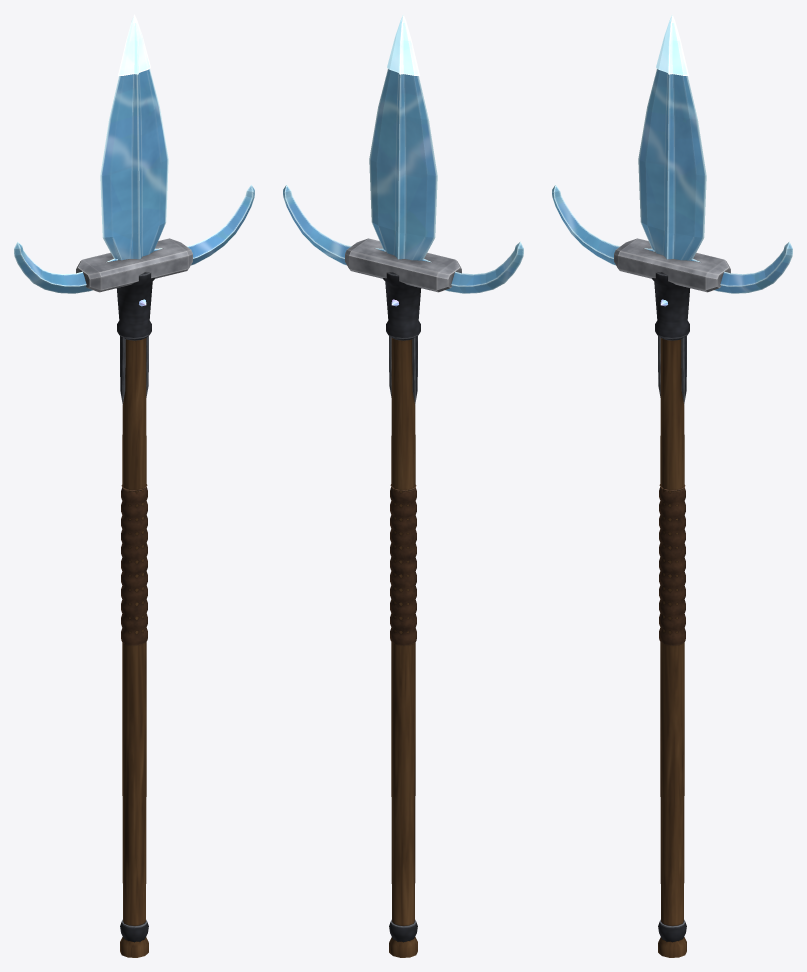
File: crystal-weapon-atgeir.glb
3 views of the same model, side by side, from view 1: azimuth 30°, elevation 25°; view 2: azimuth 150°, elevation 25°; view 3: azimuth 330°, elevation 25° (orthographic).
Visible parts, largest first — view 1: pole, main-point, grip-wrap, wing-core, socket, left-wing, right-wing, tip, butt-cap; view 2: pole, main-point, grip-wrap, wing-core, socket, left-wing, right-wing, tip, butt-cap; view 3: pole, main-point, grip-wrap, wing-core, socket, right-wing, left-wing, tip, butt-cap.
Boxes of the visible parts, x1=… form: pole: x1=120, y1=338, x2=148, y2=957; main-point: x1=100, y1=69, x2=168, y2=260; grip-wrap: x1=121, y1=484, x2=147, y2=645; wing-core: x1=76, y1=238, x2=192, y2=292; socket: x1=116, y1=272, x2=154, y2=340; left-wing: x1=14, y1=241, x2=117, y2=293; right-wing: x1=154, y1=184, x2=254, y2=265; tip: x1=118, y1=14, x2=150, y2=75; butt-cap: x1=120, y1=336, x2=148, y2=942; pole: x1=389, y1=338, x2=417, y2=957; main-point: x1=369, y1=69, x2=437, y2=260; grip-wrap: x1=390, y1=484, x2=416, y2=645; wing-core: x1=345, y1=238, x2=461, y2=292; socket: x1=383, y1=272, x2=421, y2=340; left-wing: x1=421, y1=241, x2=523, y2=293; right-wing: x1=283, y1=184, x2=385, y2=265; tip: x1=387, y1=14, x2=419, y2=75; butt-cap: x1=389, y1=336, x2=417, y2=942; pole: x1=658, y1=338, x2=686, y2=957; main-point: x1=638, y1=69, x2=706, y2=260; grip-wrap: x1=659, y1=484, x2=685, y2=645; wing-core: x1=614, y1=238, x2=730, y2=292; socket: x1=652, y1=272, x2=690, y2=340; right-wing: x1=690, y1=241, x2=792, y2=293; left-wing: x1=552, y1=184, x2=654, y2=265; tip: x1=656, y1=14, x2=688, y2=75; butt-cap: x1=658, y1=336, x2=686, y2=942.
Bounding box in the file's own units: 0.6059 × 2.26 × 0.104.
Materials: 10 (10 with a texture image).
